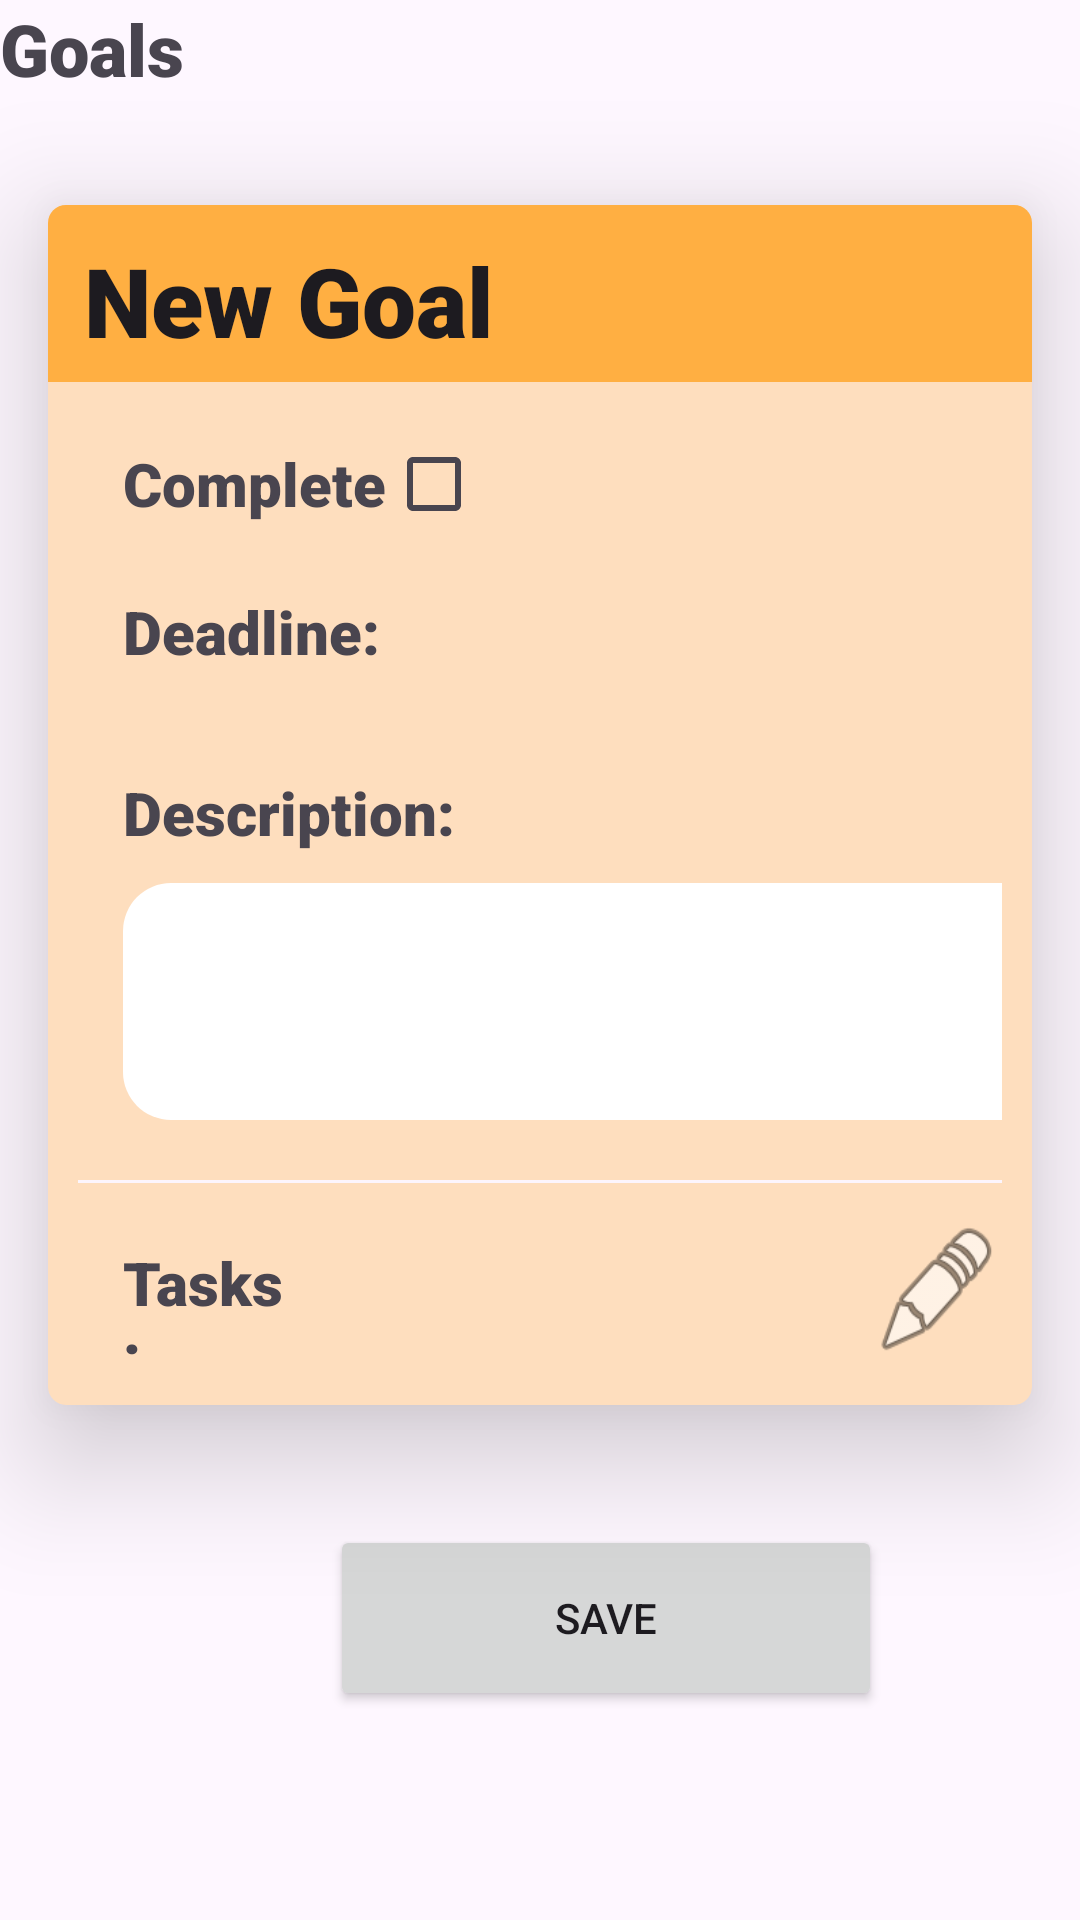

Locate icon controls on the screen. Image size 1080 × 1920, boxes as (x1, y1, x2, y2).
edit: (881, 1228, 992, 1350)
